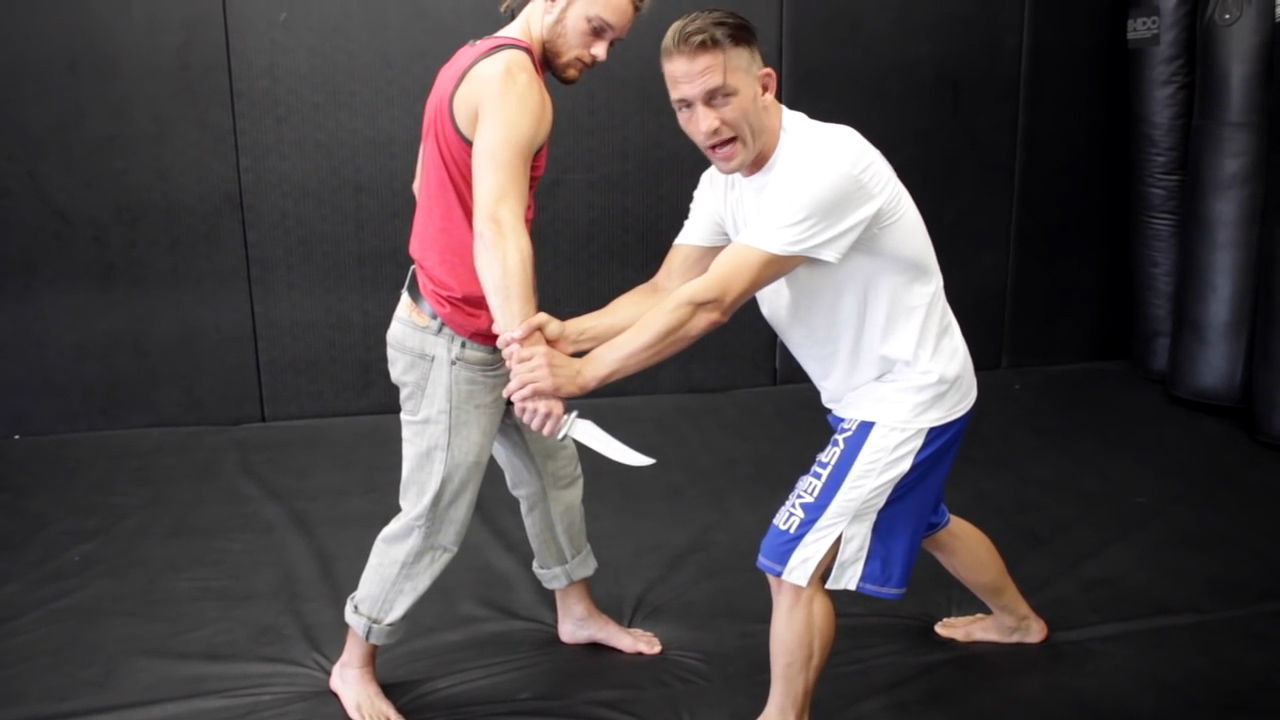knife: (505, 394, 666, 479)
